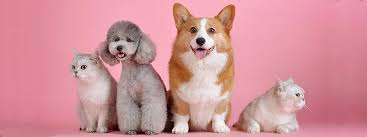cat: (67, 47, 117, 134), (236, 75, 306, 134)
dog: (169, 1, 236, 135), (97, 20, 169, 133)
